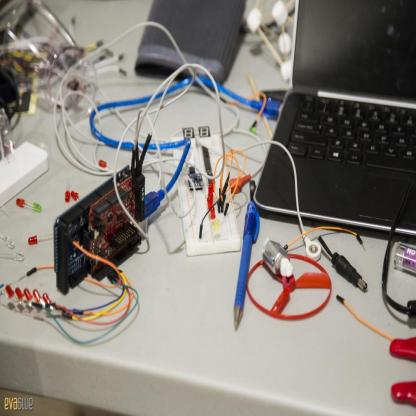board: (253, 0, 416, 242)
